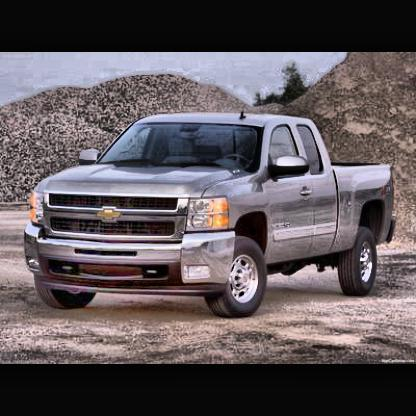Chevrolet Silverado 1500 Extended Cab 2012: (21, 109, 399, 315)
